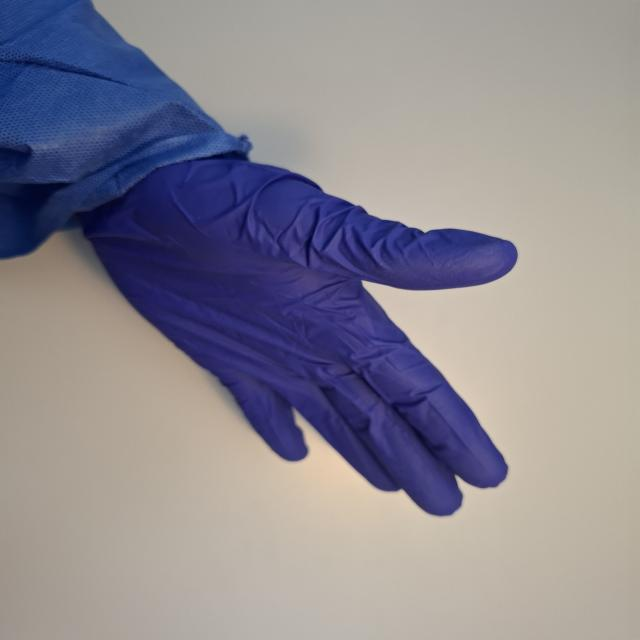glove_on: (75, 150, 521, 520)
